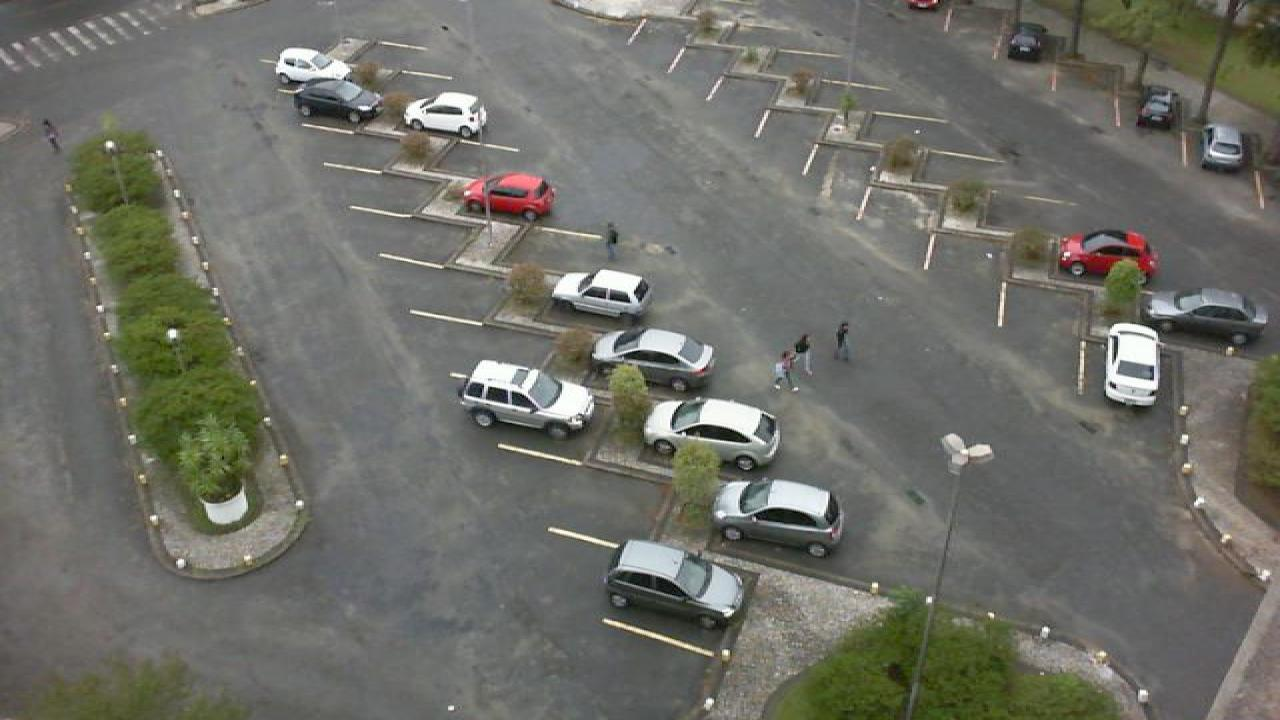Car: (602, 538, 748, 628), (458, 359, 596, 440), (712, 478, 846, 558), (642, 396, 782, 472), (590, 328, 718, 392), (1142, 287, 1270, 345), (1056, 228, 1160, 284), (1102, 322, 1164, 406), (550, 268, 654, 317), (460, 172, 558, 223), (402, 91, 490, 141), (292, 78, 386, 122), (272, 46, 356, 87), (1198, 123, 1254, 172), (1134, 86, 1178, 130), (1002, 22, 1048, 62)
